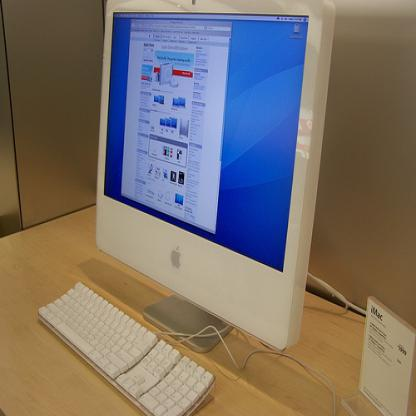tvmonitor: (97, 0, 336, 351)
